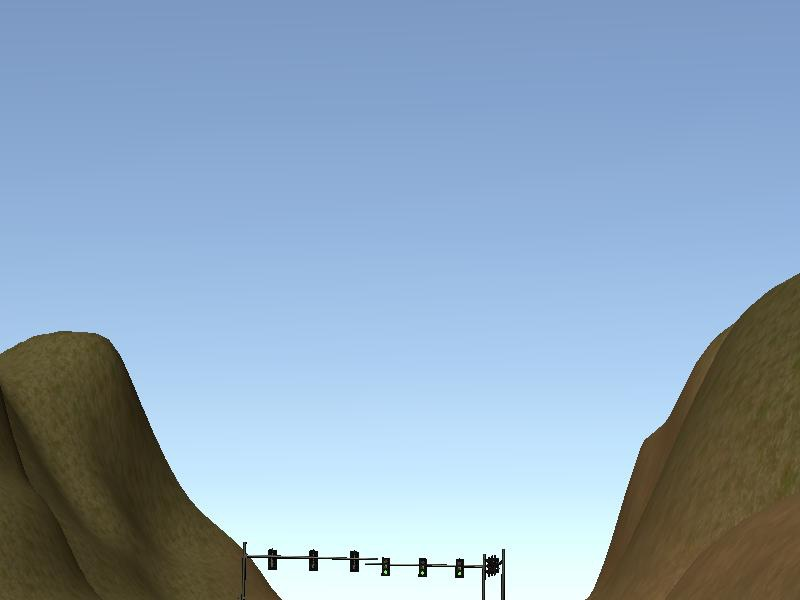green_light: (456, 558, 465, 578), (419, 558, 427, 577), (382, 558, 390, 574)
